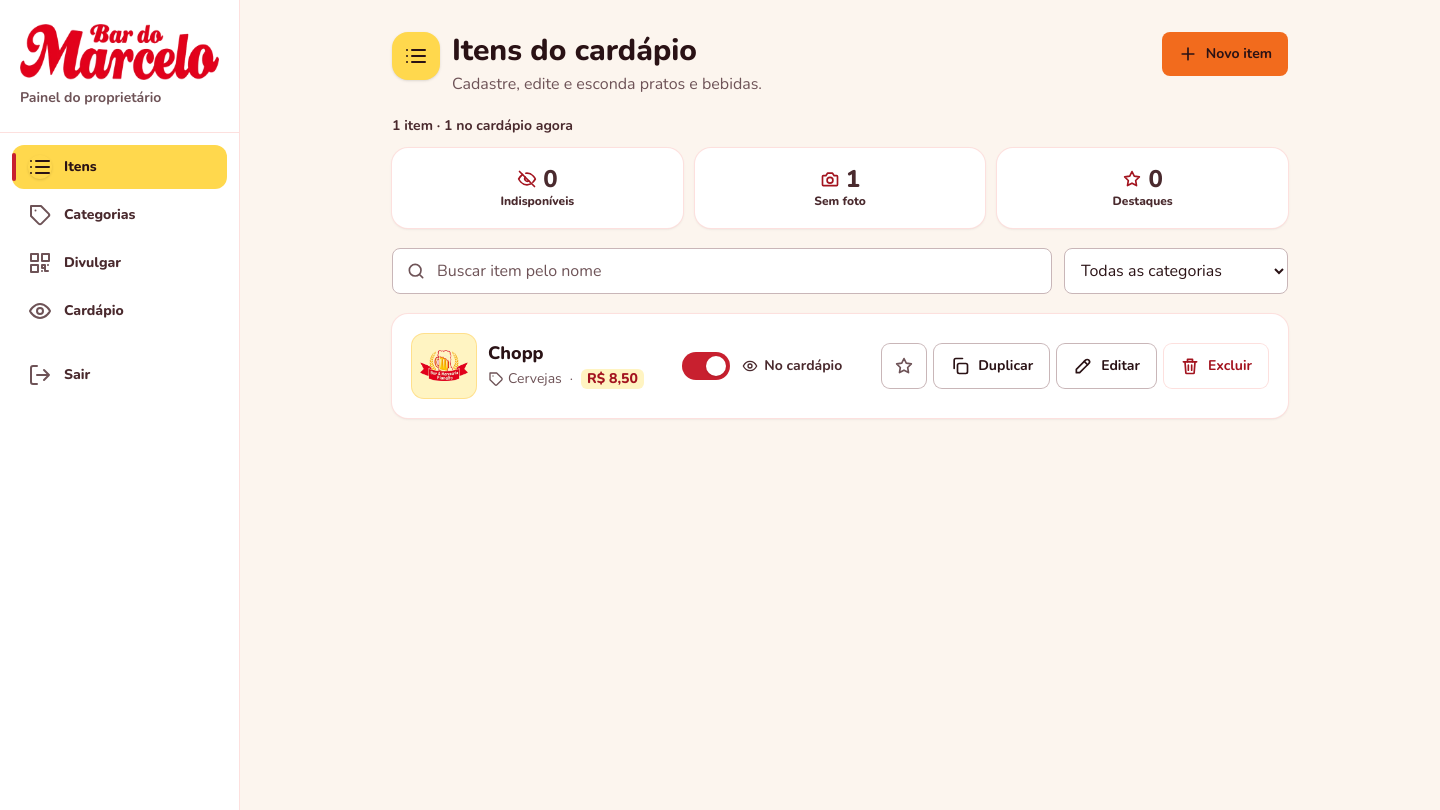
rotas › navega entre itens e categorias pelo menu do painel
The width and height of the screenshot is (1440, 810).
Expected: the heading "Itens do cardápio" is shown, [452,30,697,71]
Click the link "Categorias". click: (82,215)
box: [28,203,136,227]
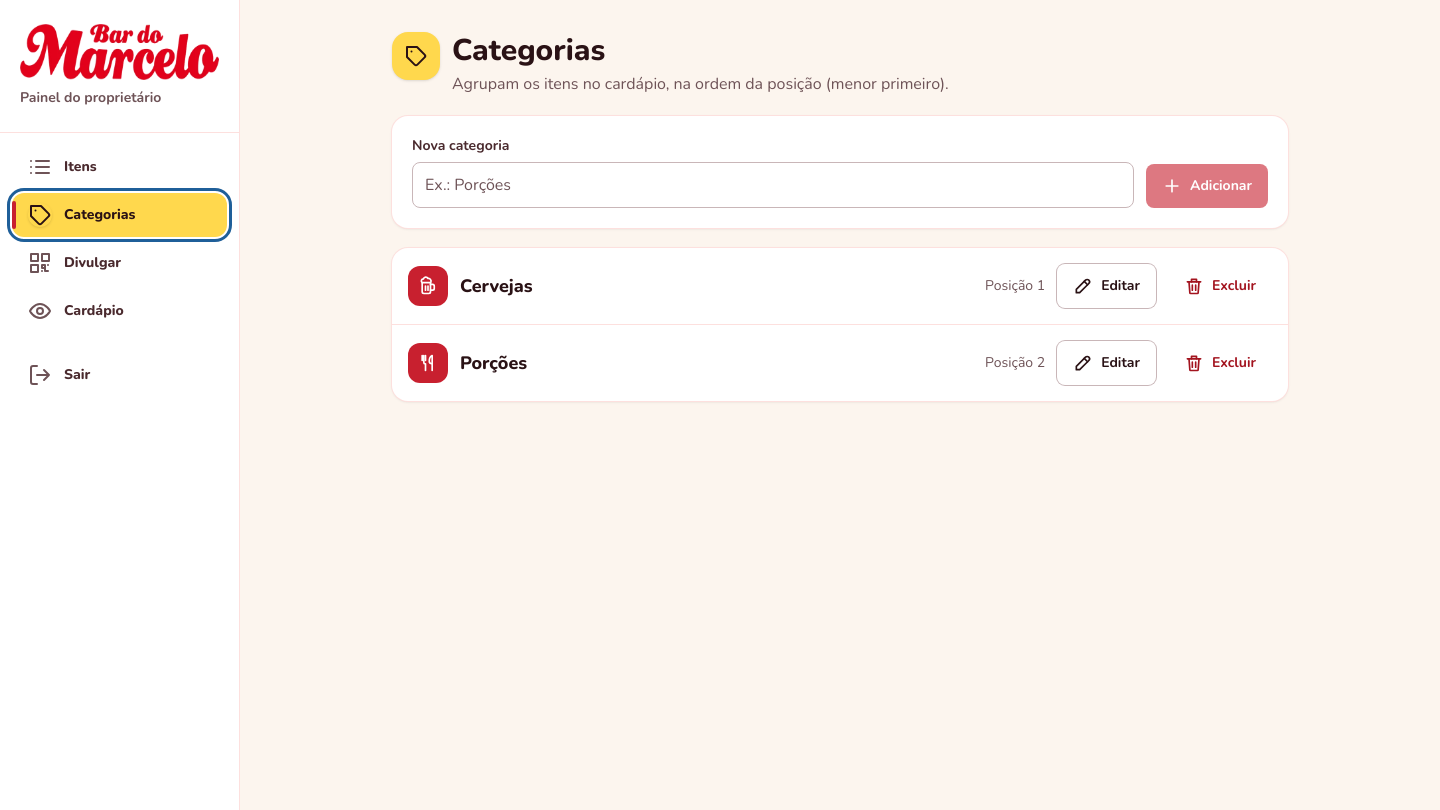
Now the heading "Categorias" is shown, box [452,30,605,71]
